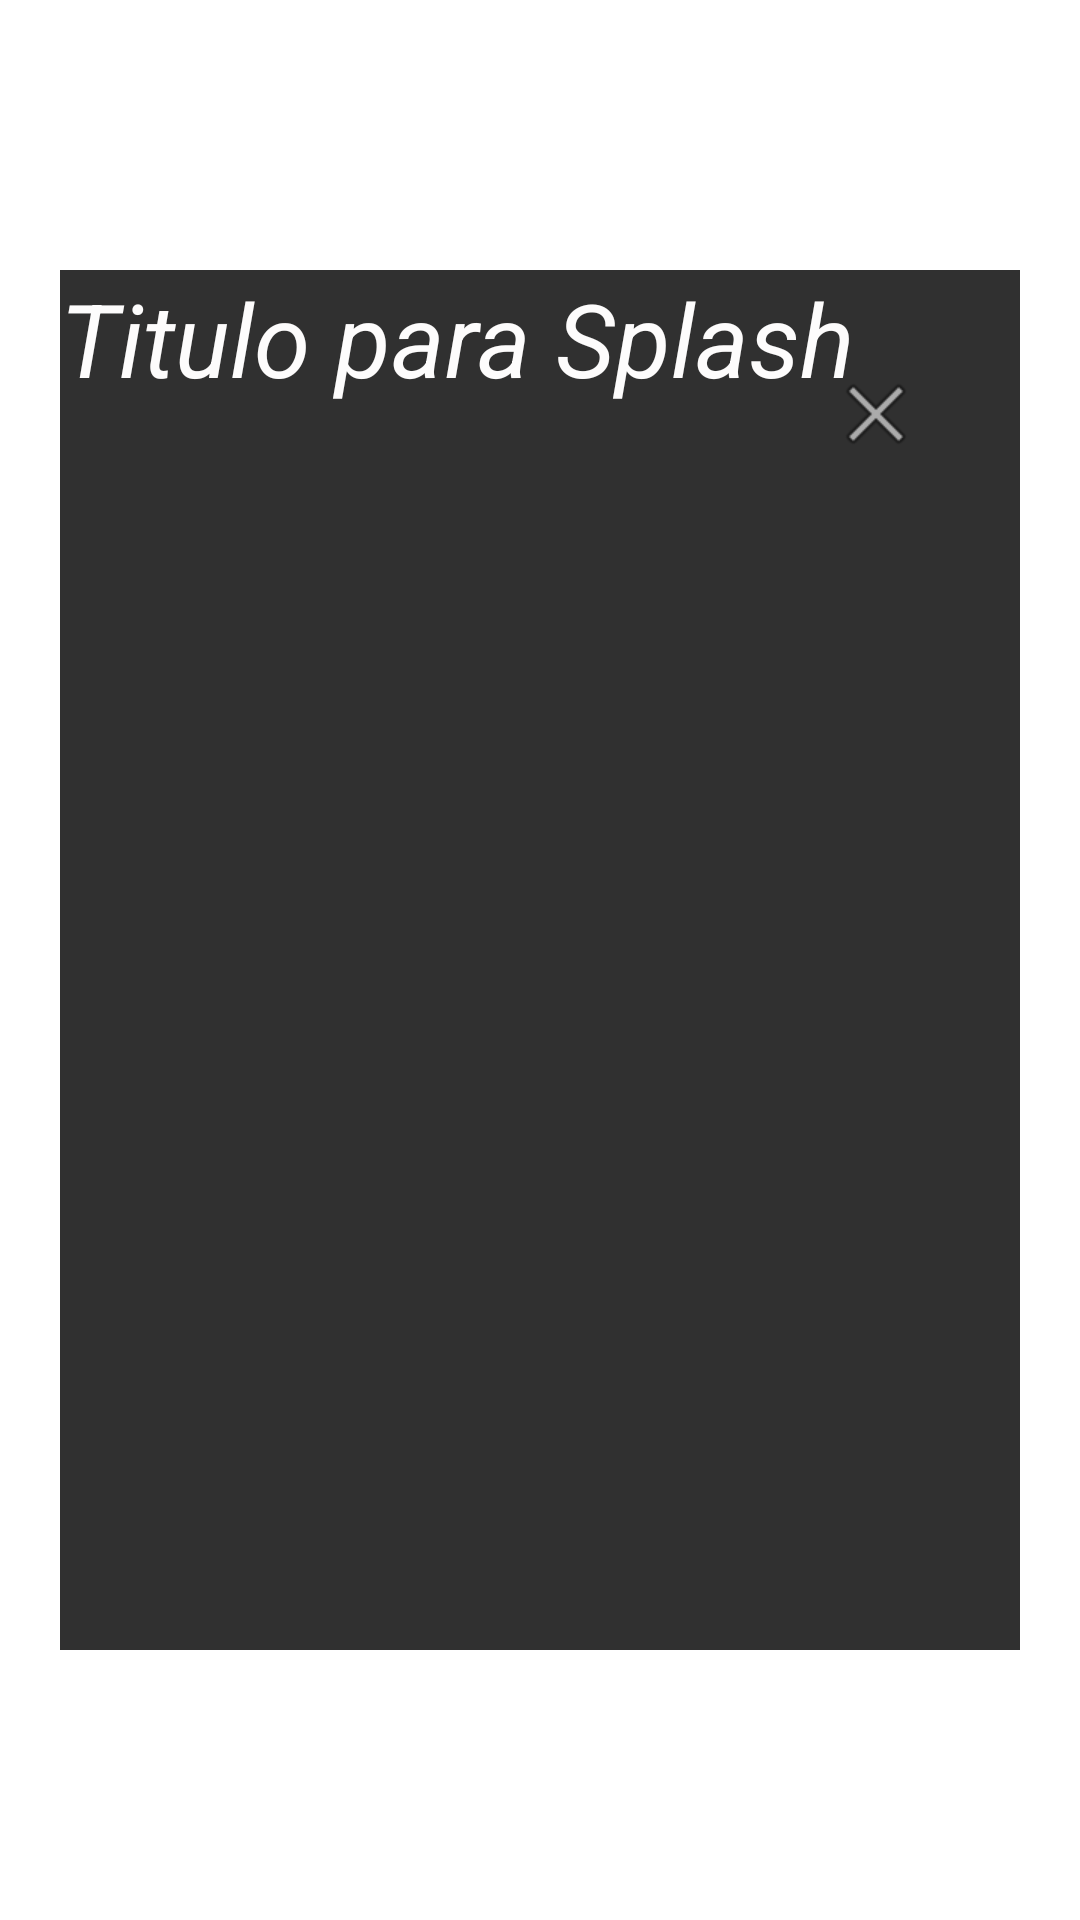

Named icons in this screenshot (1080px×1920px) and their bounding boxes, (x1=x1, y1=y1, x2=x2, y2=y2):
close clear cancel: (x1=849, y1=387, x2=903, y2=441)
